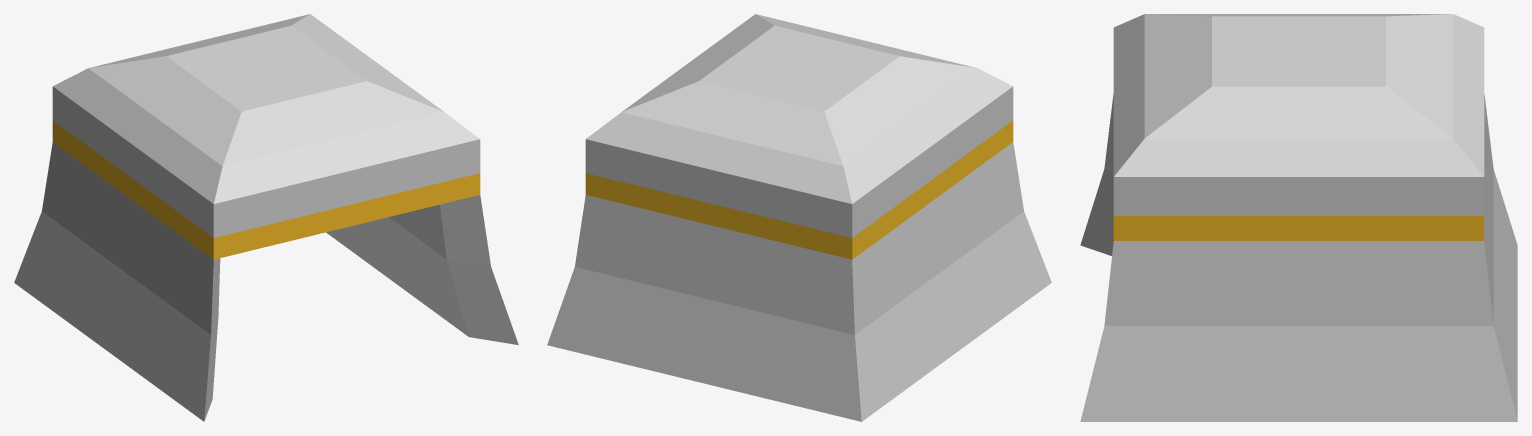
The model's file is Helmet.fbx.
The picture shows the model from 3 angles, left to right: view 1: azimuth 30°, elevation 25°; view 2: azimuth 150°, elevation 25°; view 3: azimuth 270°, elevation 25°; orthographic projection. The views are drawn at different scales.
Visible parts, largest first — view 1: Helmet; view 2: Helmet; view 3: Helmet.
Part boxes in pixels (bbox=[...]): Helmet: bbox=[14, 14, 518, 421]; Helmet: bbox=[547, 14, 1051, 421]; Helmet: bbox=[1080, 14, 1517, 421].
Size of the model in its own units: 294 by 219 by 308.
